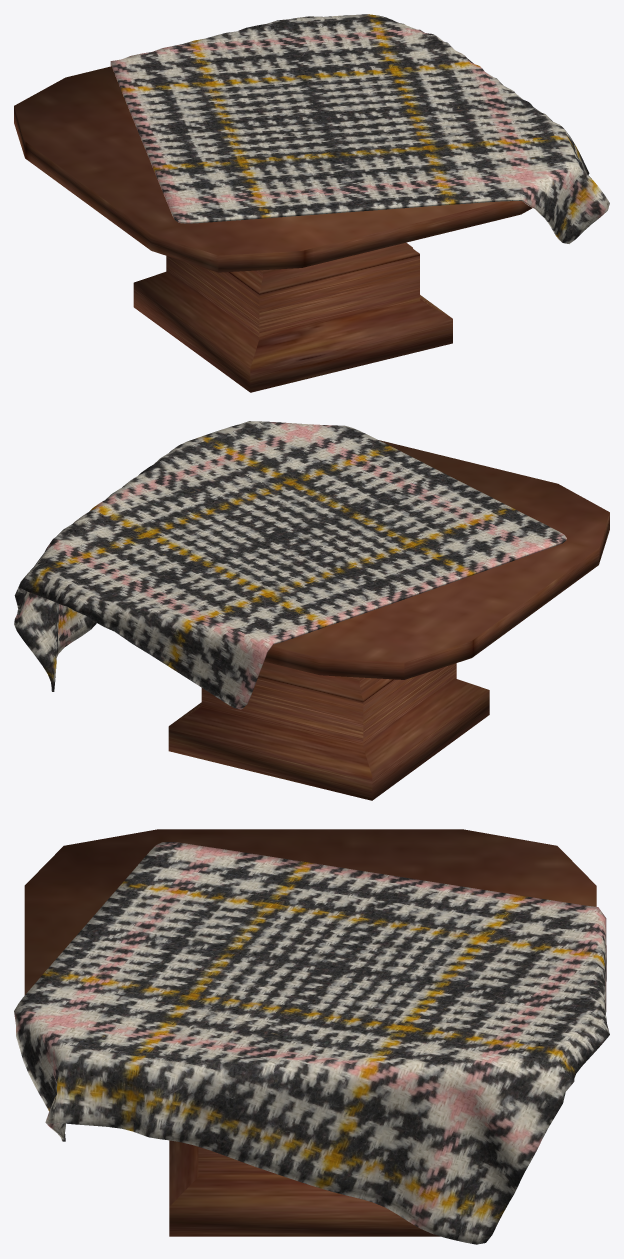
Rendered from Meja2.fbx.
3 views of the same model, one above another, from view 1: azimuth 30°, elevation 25°; view 2: azimuth 150°, elevation 25°; view 3: azimuth 270°, elevation 25° (orthographic). The views are drawn at different scales.
Parts seen in each view (by area): view 1: meja tengah; view 2: meja tengah; view 3: meja tengah.
Boxes of the visible parts, x1=… form: meja tengah: x1=14, y1=14, x2=609, y2=392; meja tengah: x1=14, y1=421, x2=609, y2=800; meja tengah: x1=14, y1=829, x2=609, y2=1244.
Bounding box in the file's own units: 372 × 159 × 366.
2 materials, 2 textured.
